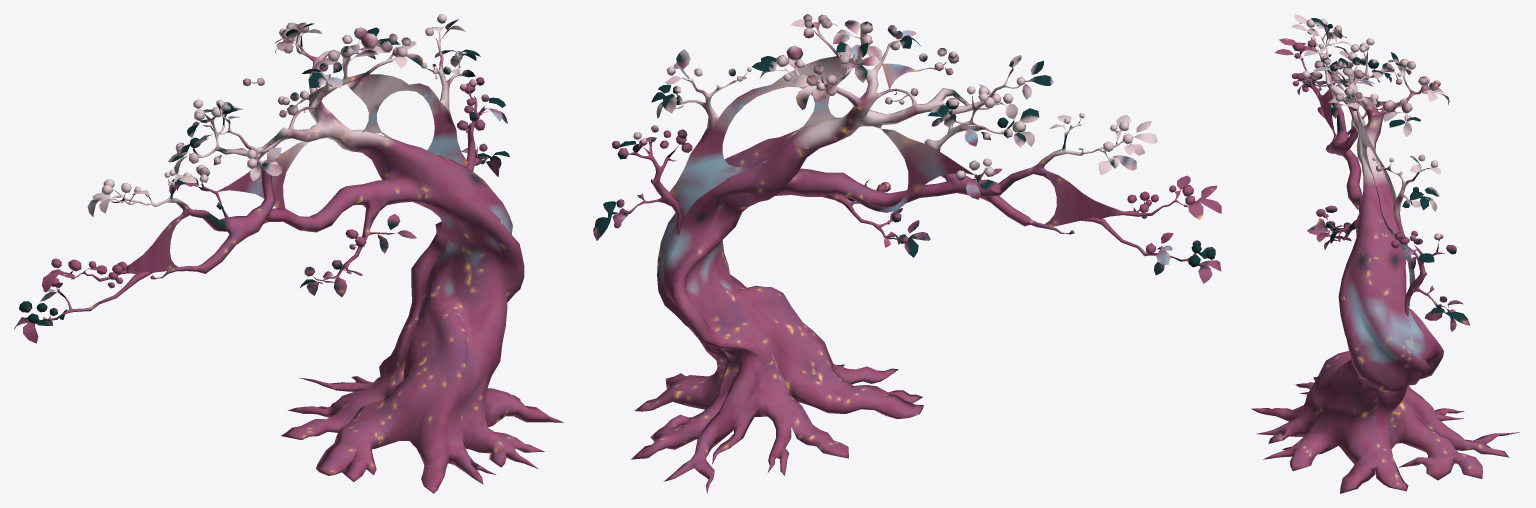
Rendered from leftpinkone.glb.
3 renders of one model, left to right at view 1: azimuth 30°, elevation 25°; view 2: azimuth 150°, elevation 25°; view 3: azimuth 270°, elevation 25°, orthographic. The views are drawn at different scales.
Parts seen in each view (by area): view 1: V17_foreground_arch_2; view 2: V17_foreground_arch_2; view 3: V17_foreground_arch_2.
Boxes of the visible parts, x1=… form: V17_foreground_arch_2: x1=14, y1=14, x2=563, y2=493; V17_foreground_arch_2: x1=593, y1=14, x2=1221, y2=493; V17_foreground_arch_2: x1=1251, y1=14, x2=1519, y2=493.
Bounding box in the file's own units: 5.71 × 4.23 × 2.95.
Materials: 1 (1 with a texture image).
